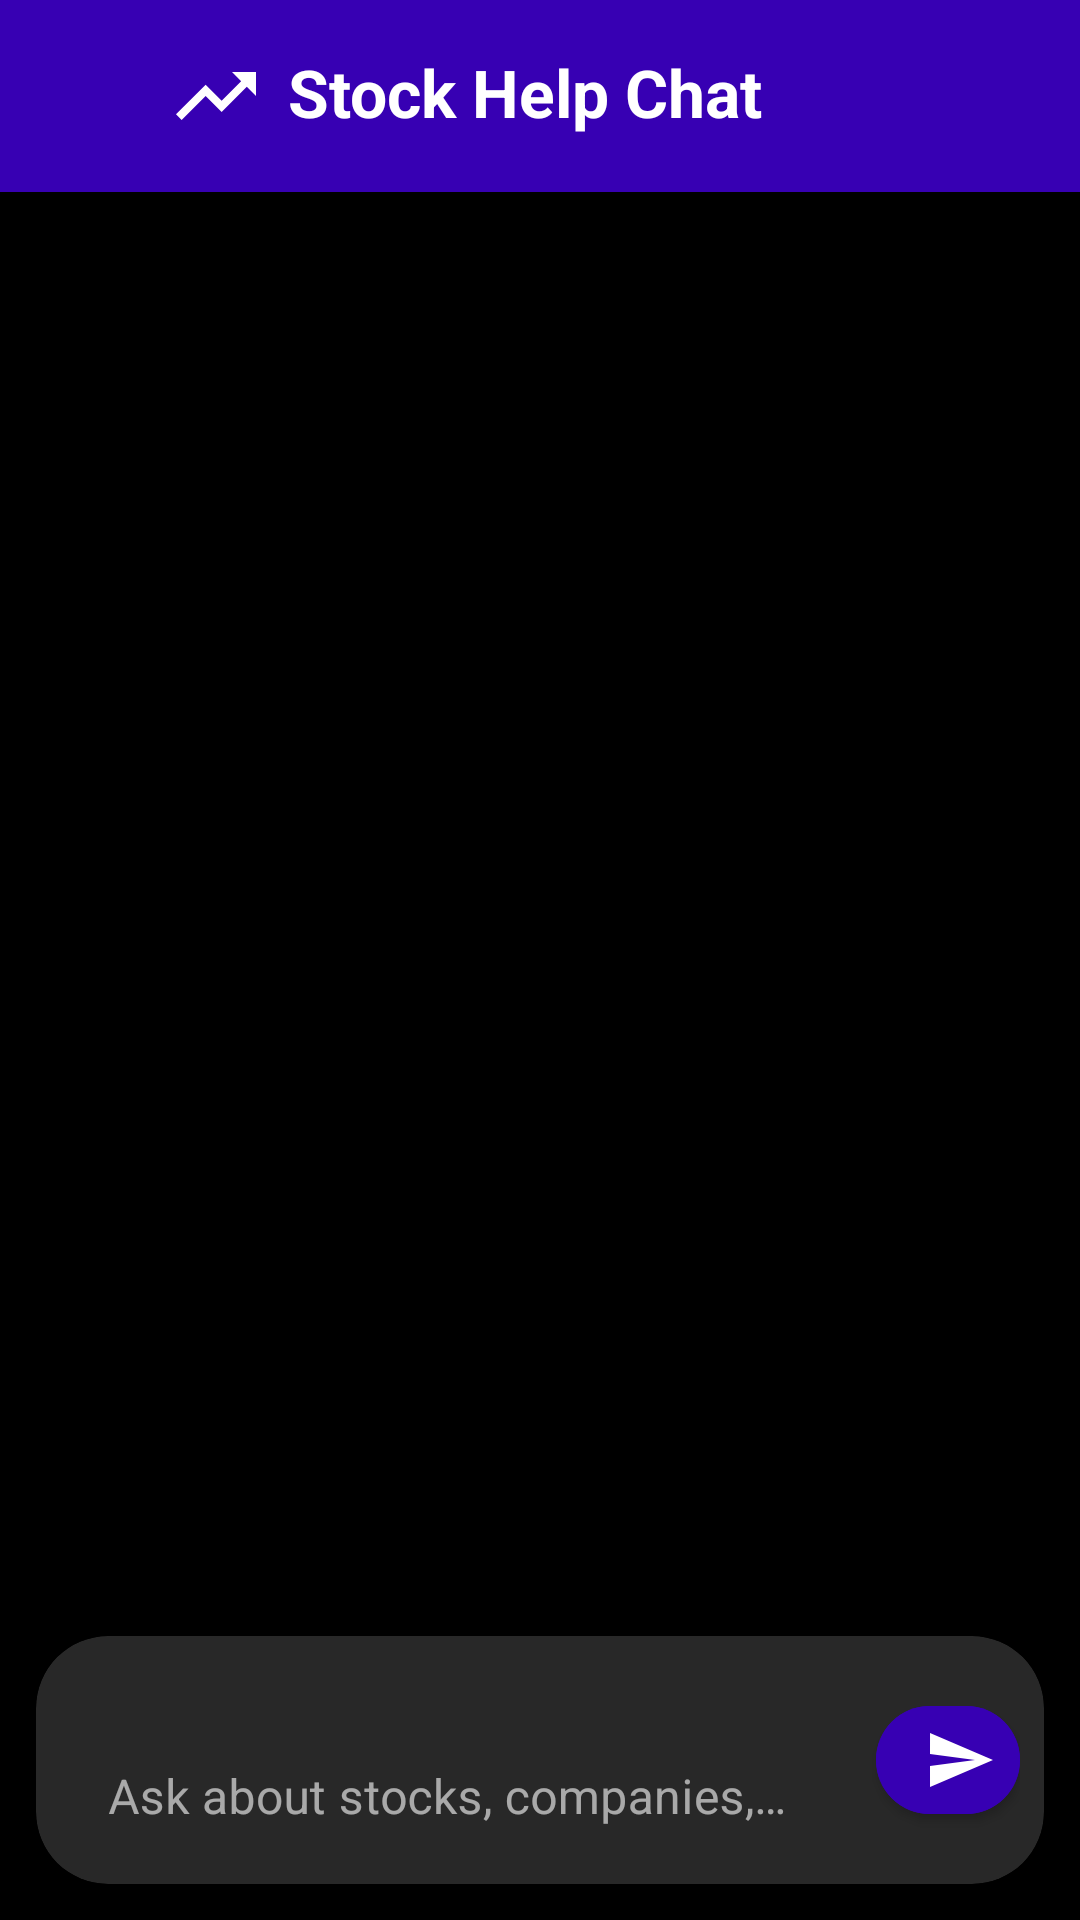

Point at icon controls on the screen. Image size 1080x1920, points as [x,y].
Send: [948,1760]
